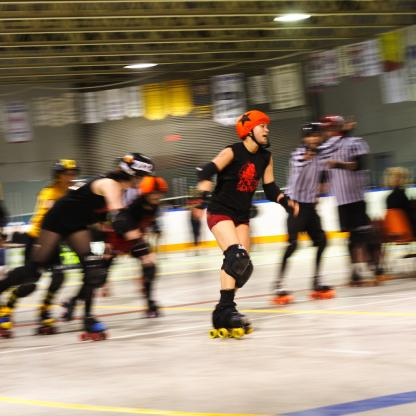Helmet: (234, 109, 272, 149), (117, 153, 155, 189), (50, 159, 84, 182), (138, 172, 169, 196), (300, 122, 321, 152), (321, 116, 345, 132)
